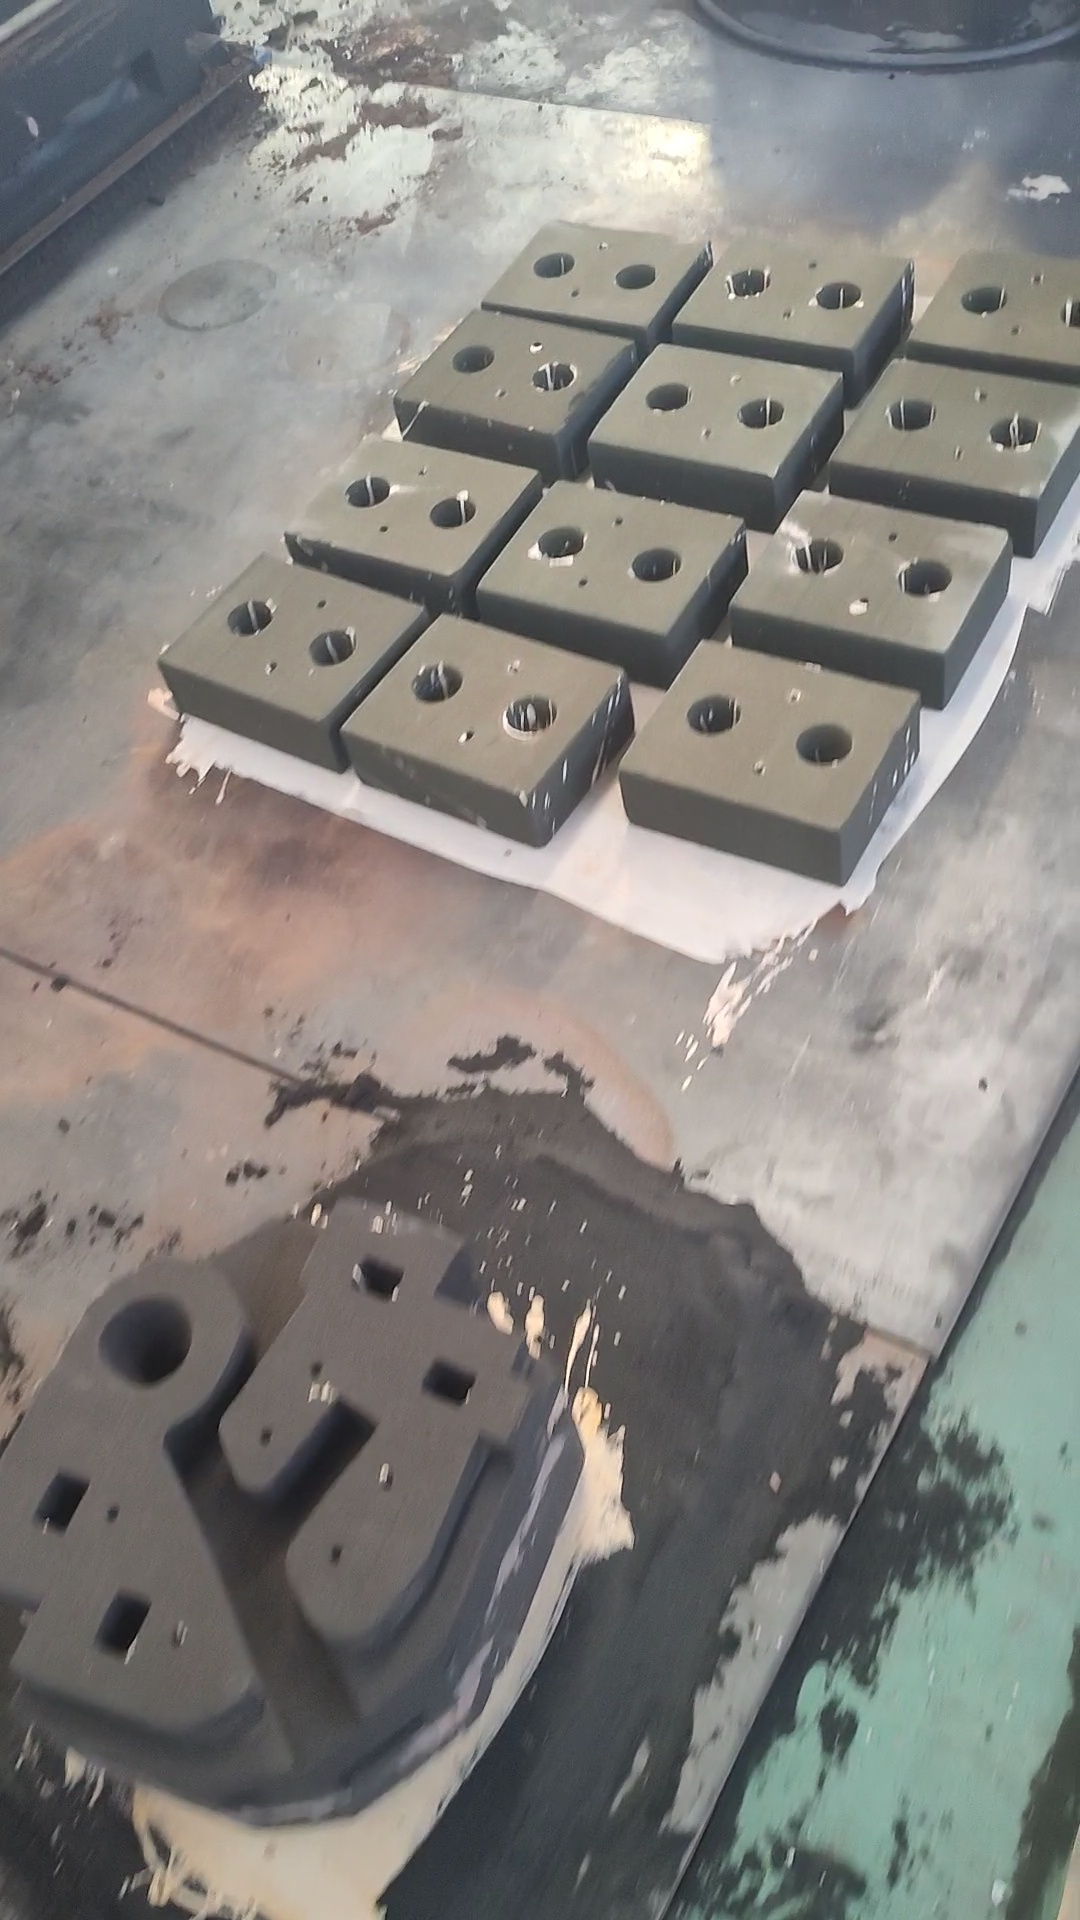pouring hole: (94, 1288, 191, 1389), (795, 723, 855, 765), (895, 556, 953, 596), (504, 694, 558, 735), (410, 663, 465, 703), (787, 538, 845, 574), (688, 696, 741, 735), (307, 628, 356, 669), (225, 597, 274, 636), (632, 546, 682, 583), (988, 414, 1040, 448), (538, 524, 585, 560), (343, 473, 390, 506), (890, 397, 938, 430), (429, 497, 477, 527), (531, 360, 578, 392), (738, 398, 785, 430), (724, 268, 771, 297), (812, 281, 861, 309), (959, 284, 1005, 313), (452, 343, 496, 373), (533, 251, 576, 280), (645, 382, 690, 410), (612, 262, 657, 290), (1059, 299, 1080, 326)
